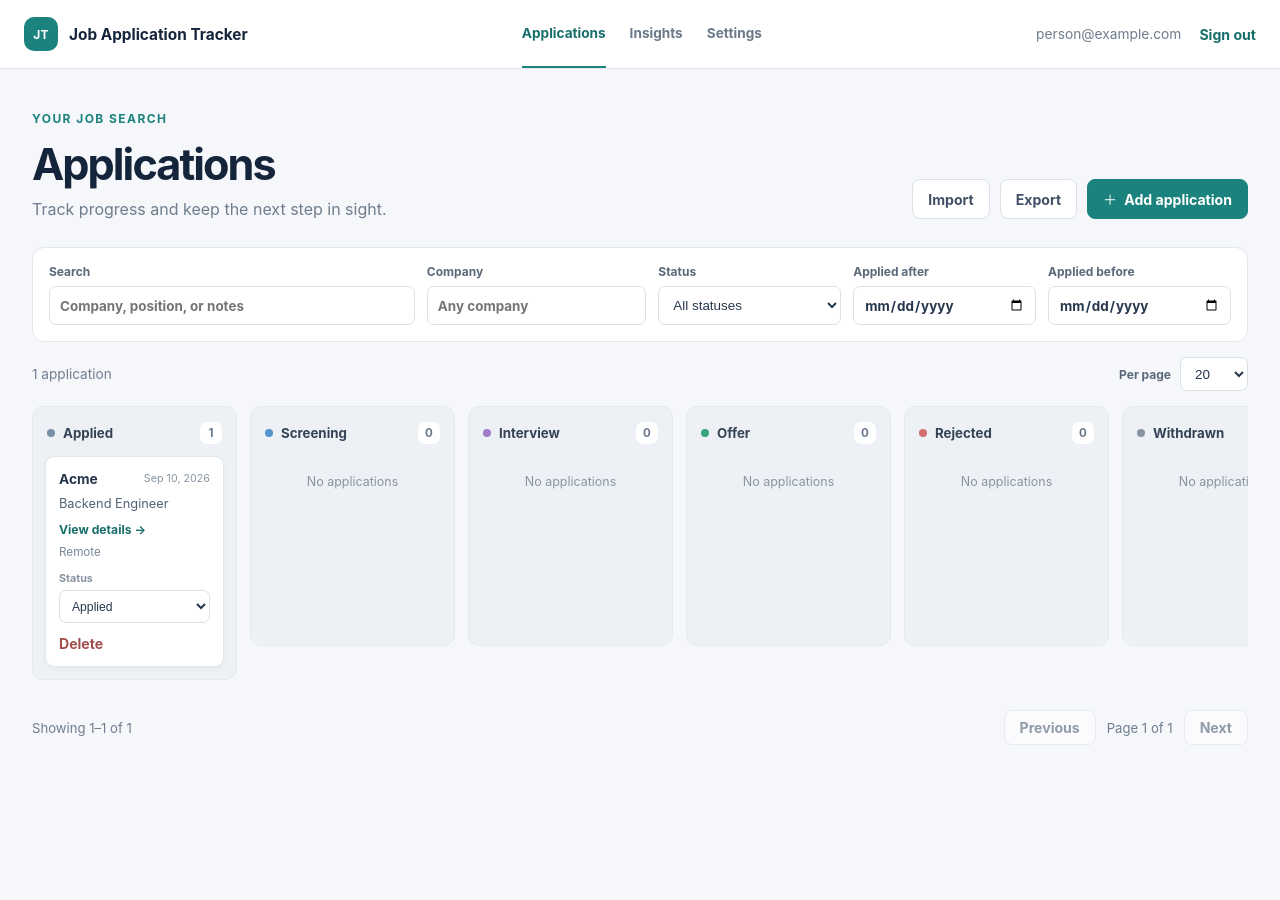
ApplicationsBoard › loads applications and refreshes the board after a legal status change
Check: the heading "Acme" is shown, box top-left (59, 470), bottom-right (98, 489)
Select "Screening" in the dropdown named "Change status for Acme" at (134, 607), box top-left (59, 590), bottom-right (210, 623)
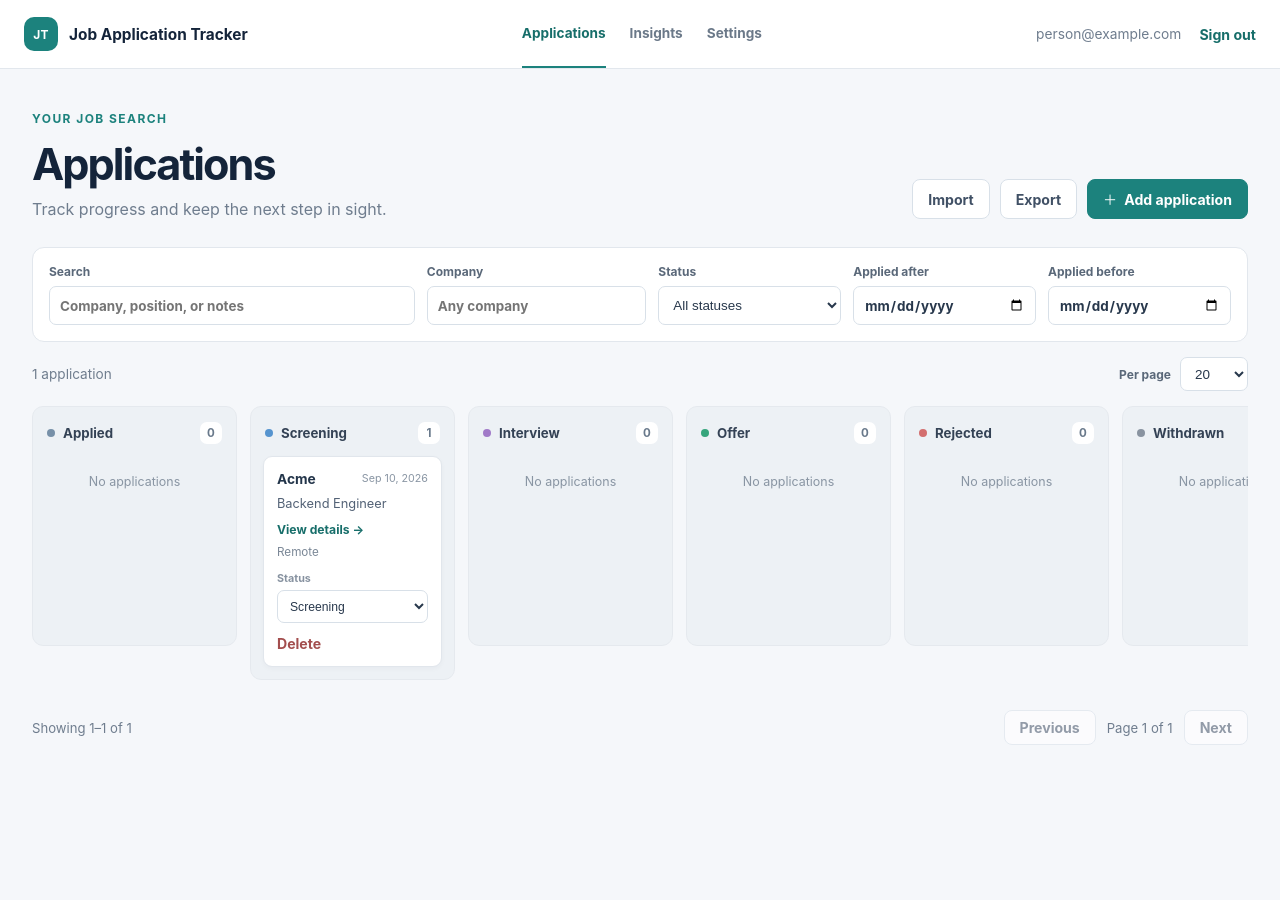
Check: the dropdown named "Change status for Acme" shows "Screening", box top-left (277, 590), bottom-right (428, 623)
